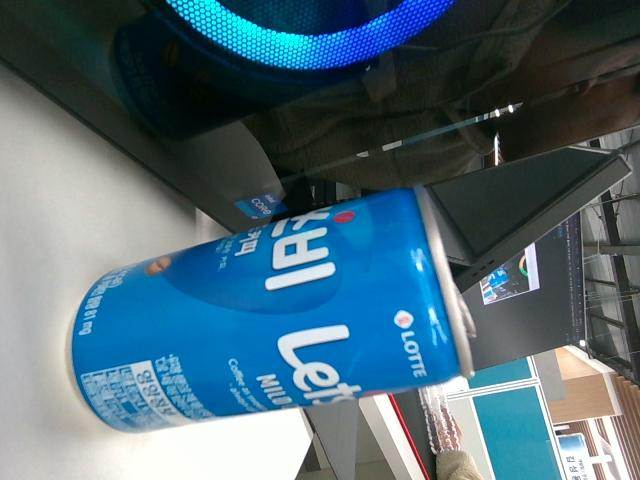letsbe: (65, 182, 476, 432)
